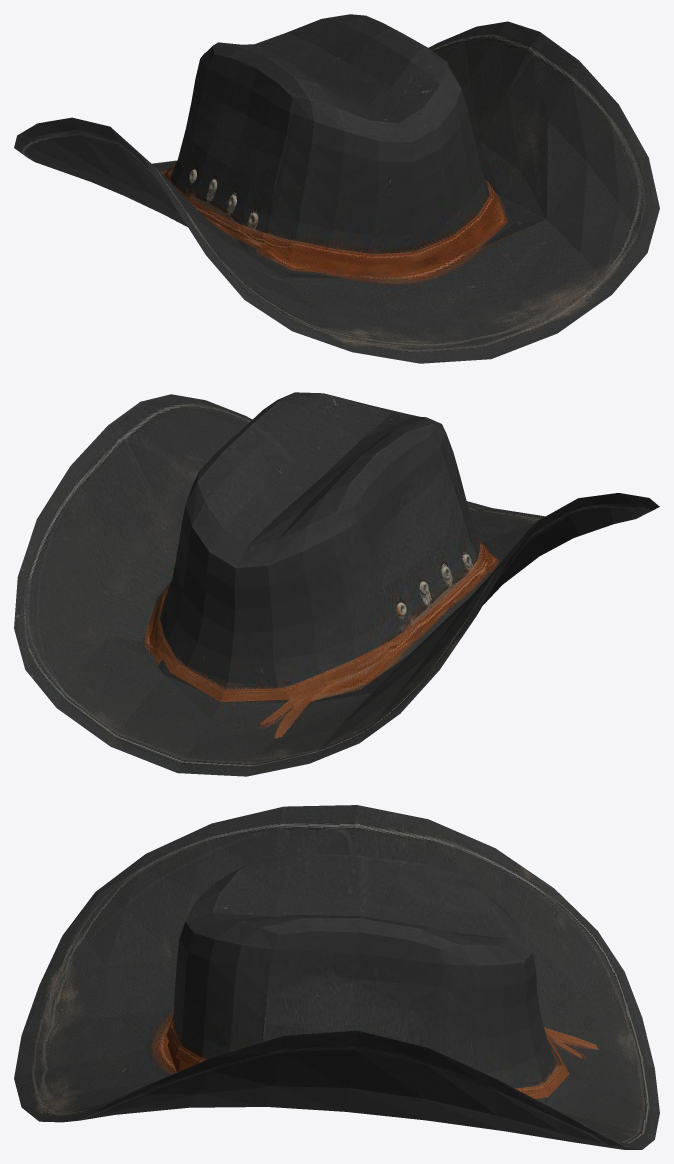
File: ewb_cowboyhat_worn.glb
3 renders of one model, top to bottom at view 1: azimuth 30°, elevation 25°; view 2: azimuth 150°, elevation 25°; view 3: azimuth 270°, elevation 25°, orthographic. The views are drawn at different scales.
Visible parts, largest first — view 1: ewb_cowboyhat_worn; view 2: ewb_cowboyhat_worn; view 3: ewb_cowboyhat_worn.
Part boxes in pixels (box(x1,y1,x2,y2)): ewb_cowboyhat_worn: box(14, 14, 659, 363); ewb_cowboyhat_worn: box(14, 392, 659, 776); ewb_cowboyhat_worn: box(14, 805, 659, 1149).
Bounding box in the file's own units: 0.351 × 0.1702 × 0.4286.
Materials: 2 (2 with a texture image).
